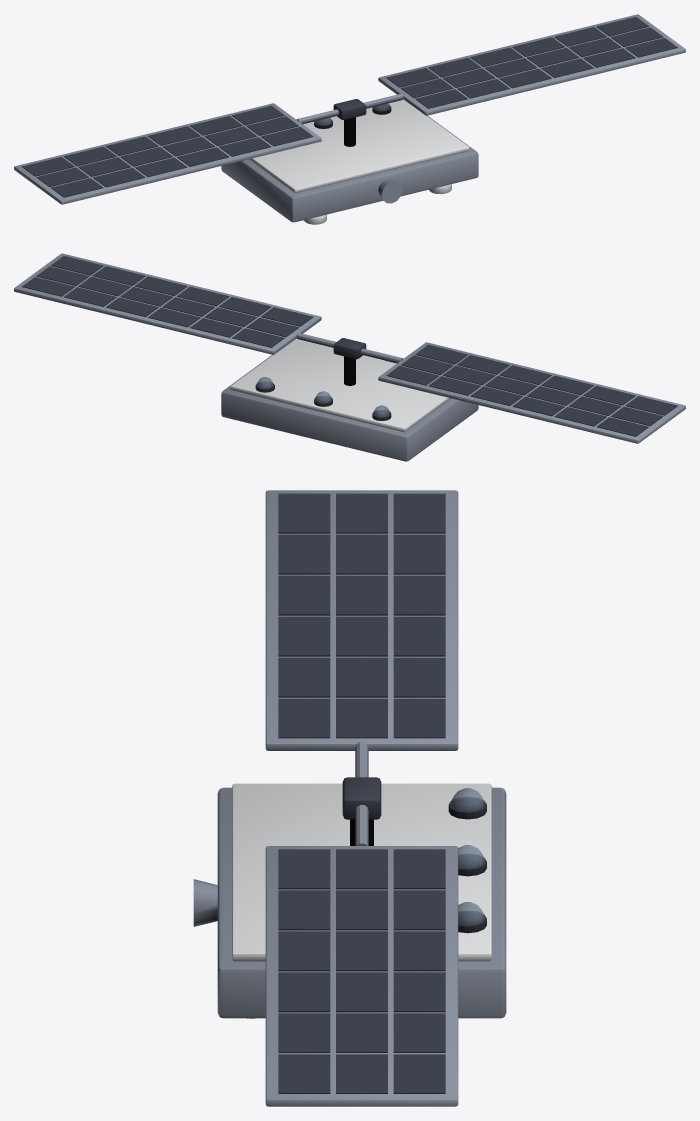
File: satellite.envelope.glb
3 views of the same model, one above another, from view 1: azimuth 30°, elevation 25°; view 2: azimuth 150°, elevation 25°; view 3: azimuth 270°, elevation 25° (orthographic). The views are drawn at different scales.
Visible parts, largest first — view 1: satellite.graphite, satellite.metal, satellite.white; view 2: satellite.graphite, satellite.metal, satellite.white, satellite.glass; view 3: satellite.graphite, satellite.metal, satellite.white, satellite.glass.
Part boxes in pixels (x1=…): satellite.graphite: x1=22, y1=17, x2=677, y2=197; satellite.metal: x1=14, y1=14, x2=685, y2=222; satellite.white: x1=249, y1=100, x2=469, y2=192; satellite.graphite: x1=22, y1=256, x2=677, y2=436; satellite.metal: x1=14, y1=253, x2=685, y2=461; satellite.white: x1=230, y1=339, x2=450, y2=432; satellite.glass: x1=257, y1=377, x2=389, y2=417; satellite.graphite: x1=278, y1=493, x2=486, y2=1093; satellite.metal: x1=193, y1=490, x2=506, y2=1106; satellite.white: x1=232, y1=783, x2=491, y2=961; satellite.glass: x1=451, y1=788, x2=484, y2=925.
Size of the model in its own units: 3 by 0.37 by 0.65.
